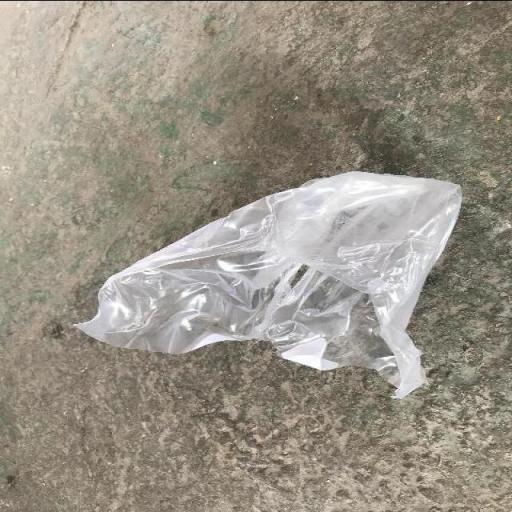plastic-bag: (72, 170, 467, 400)
